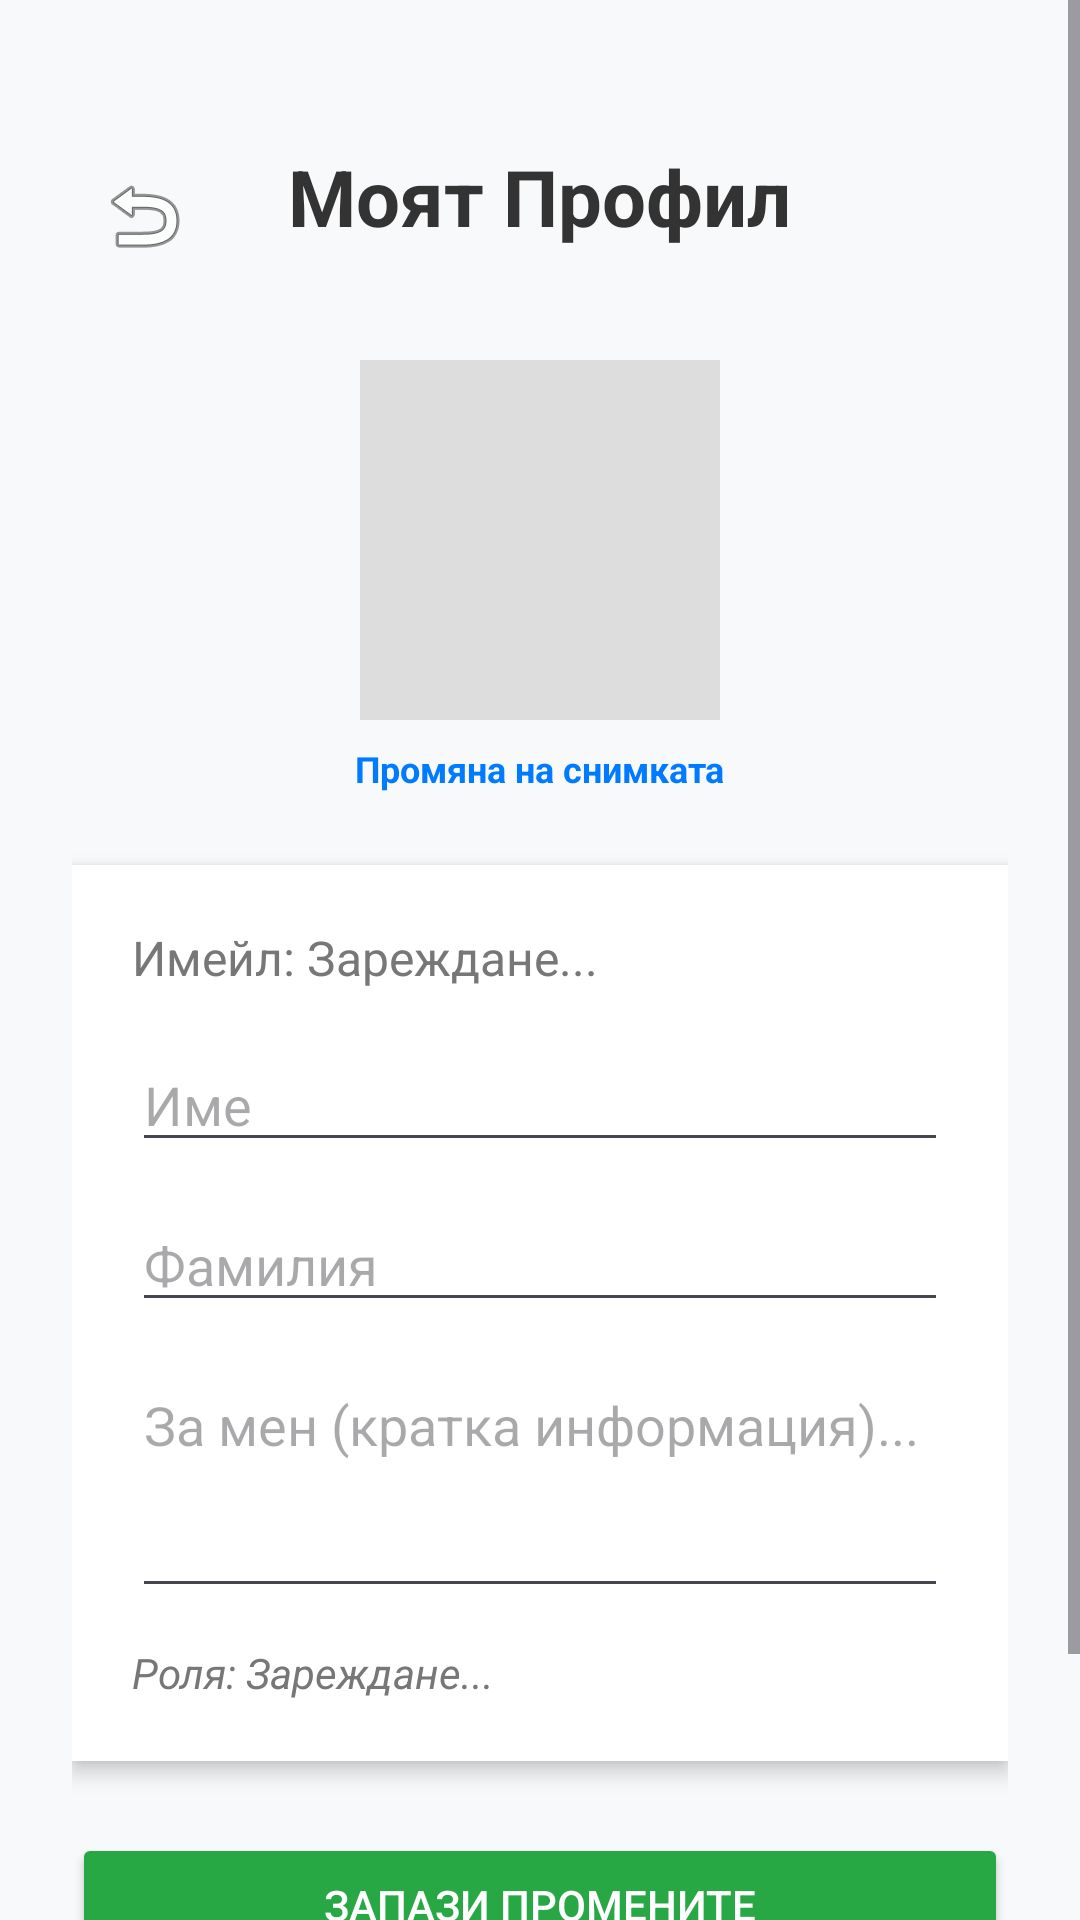

Point at icon controls on the screen. Image size 1080px x 1920px, points as [x,y].
Назад: [145,216]
